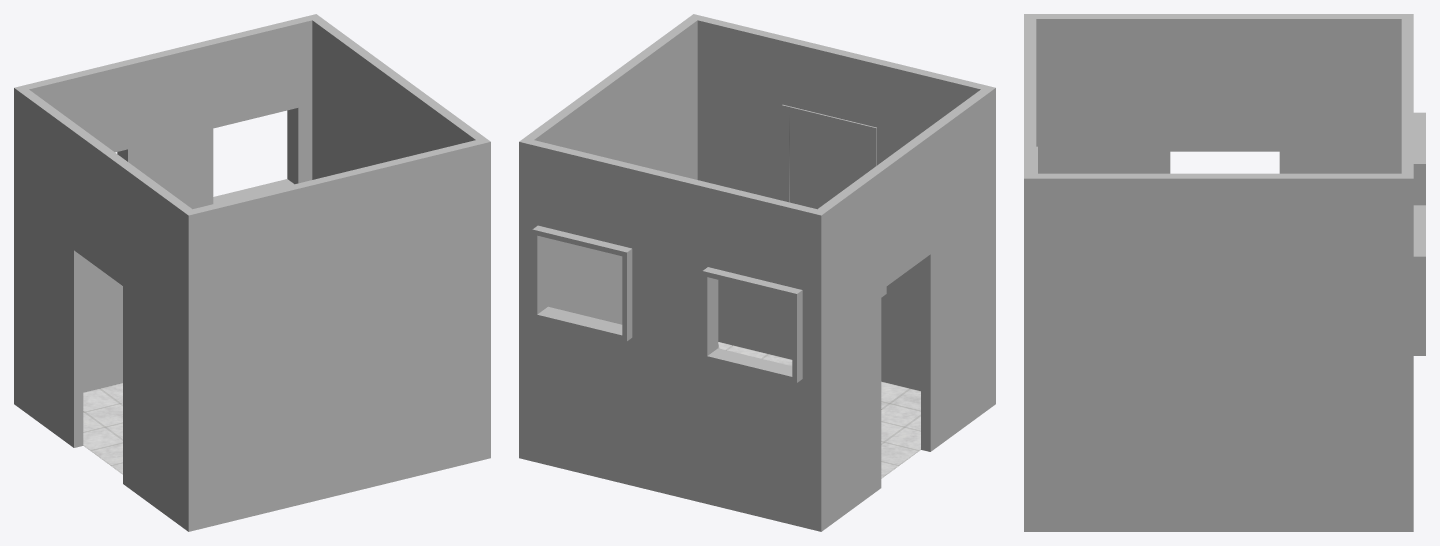
The model's file is bathroom_config_5.dae.
3 renders of one model, left to right at view 1: azimuth 30°, elevation 25°; view 2: azimuth 150°, elevation 25°; view 3: azimuth 270°, elevation 25°, orthographic. The views are drawn at different scales.
Visible parts, largest first — view 1: configuration_5; view 2: configuration_5; view 3: configuration_5.
Part boxes in pixels (<box>): configuration_5: <box>14,14,490,531</box>; configuration_5: <box>519,14,995,531</box>; configuration_5: <box>1024,14,1425,531</box>.
Size of the model in its own units: 3.2 by 3.3 by 3.2.
